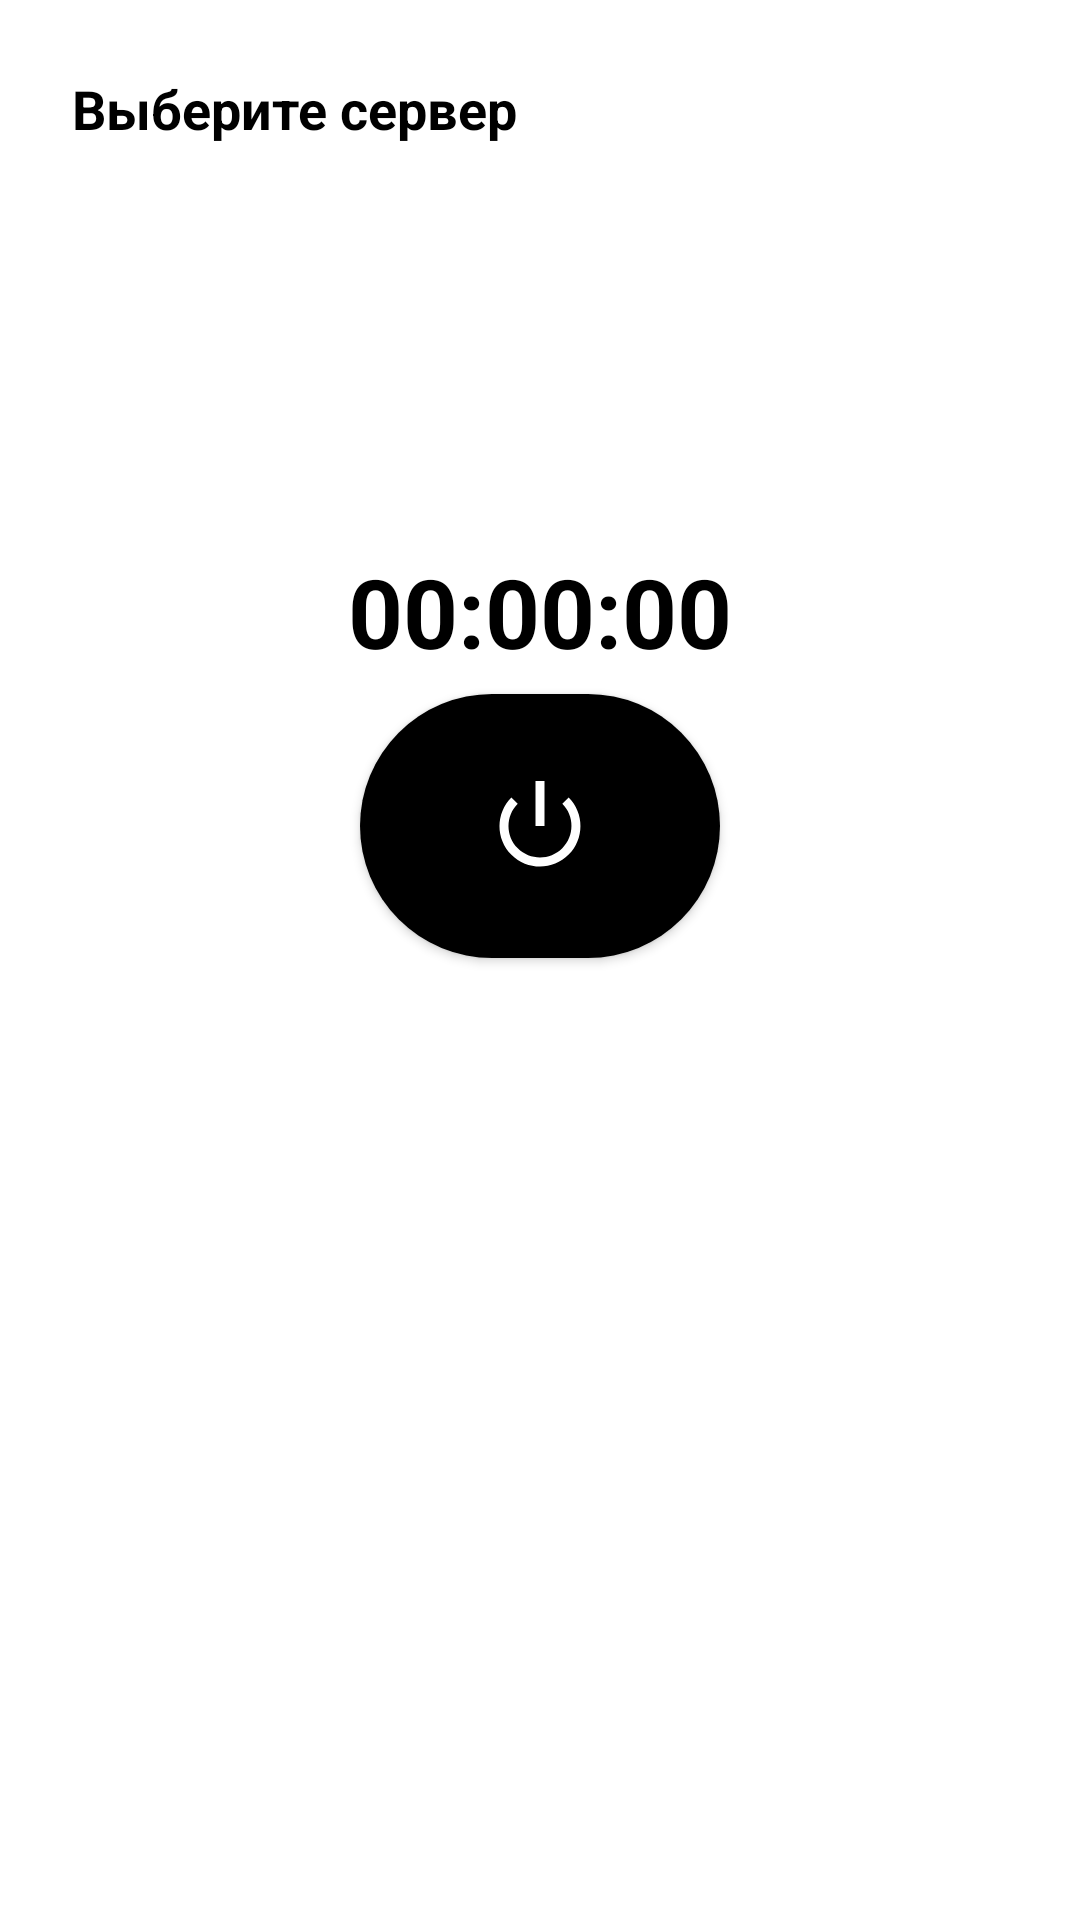

Where to tap for icons on this 1080x1920 app screen, as (x=x, y=y):
lock power off: (x=540, y=827)
